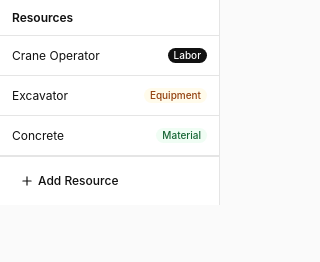
Scenario: ResourceSidebar › shows add form when clicking Add Resource
This screenshot has width=320, height=262.
What coordinates should you click on to do the following:
click the button "Add Resource"
I would click on:
 (110, 181)
Its box is x1=8 y1=165 x2=211 y2=197.
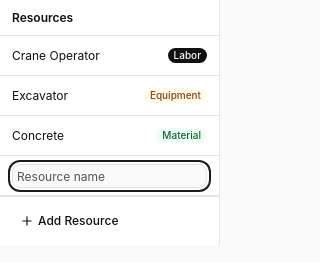
Check: the field with placeholder "Resource name" is shown, box x1=12 y1=164 x2=207 y2=188
